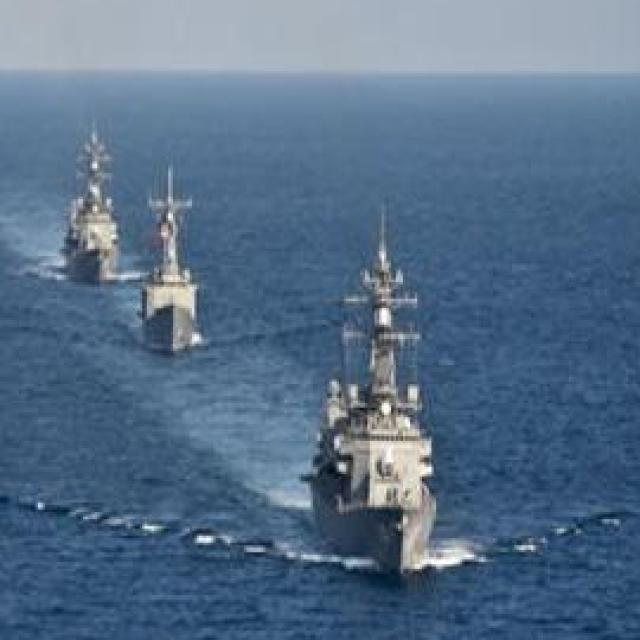navalvessels: (306, 216, 440, 570), (136, 170, 202, 346), (66, 124, 130, 274)
